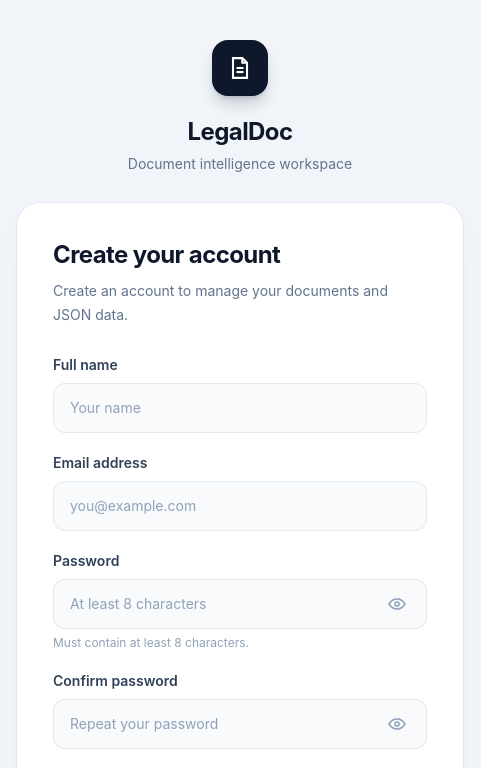
Test: RegisterForm › shows an error when registration fails
This screenshot has width=481, height=768.
In the field labelled "Full name": x=240, y=408 [53,383,427,433], type "Test User"
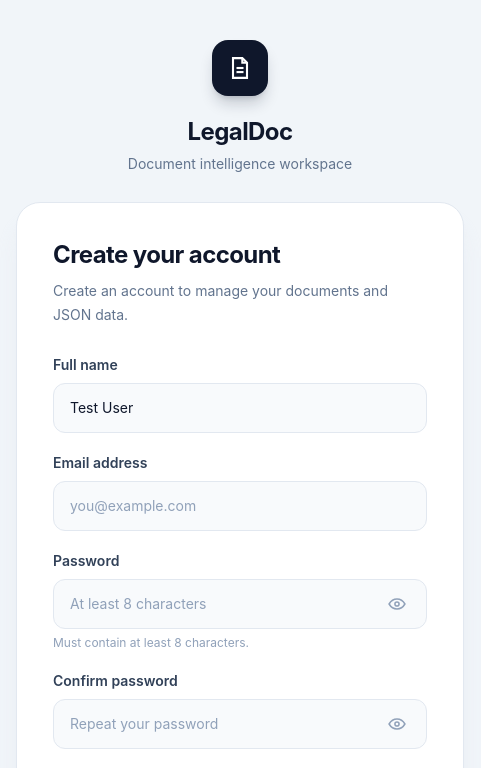
In the field labelled "Email address": x=240, y=506 [53,481,427,531], type "test@gmail.com"
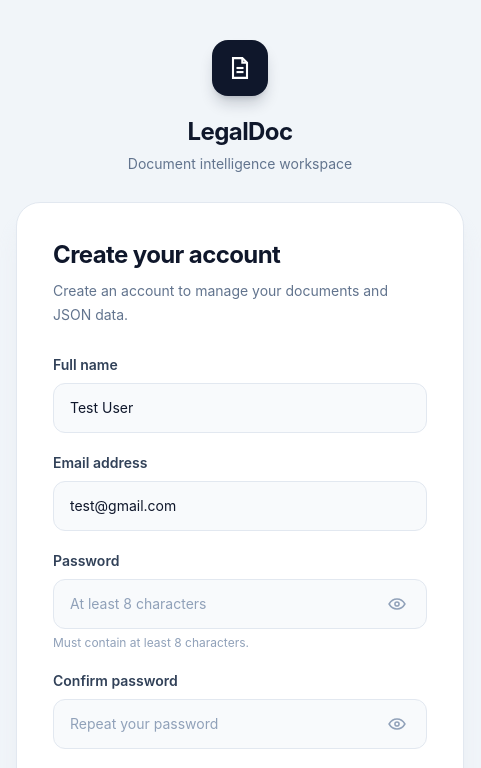
In the password field labelled "Password": x=240, y=604 [53,579,427,629], type "password123"
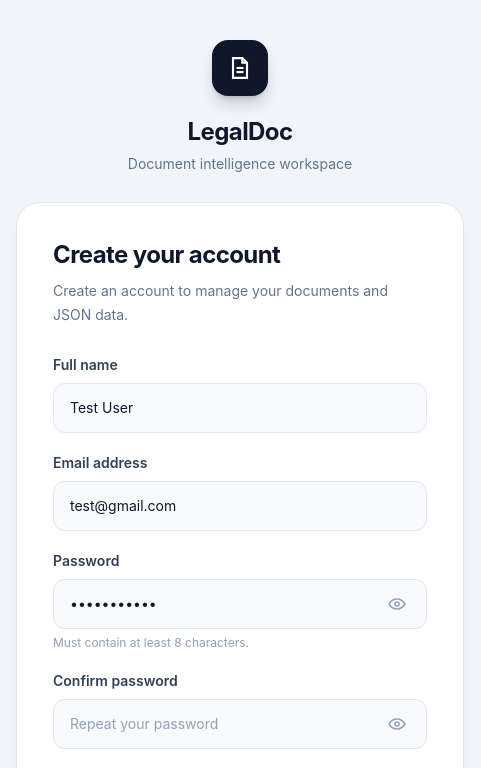
In the password field labelled "Confirm password": x=240, y=724 [53,699,427,749], type "password123"
(page scrolled)
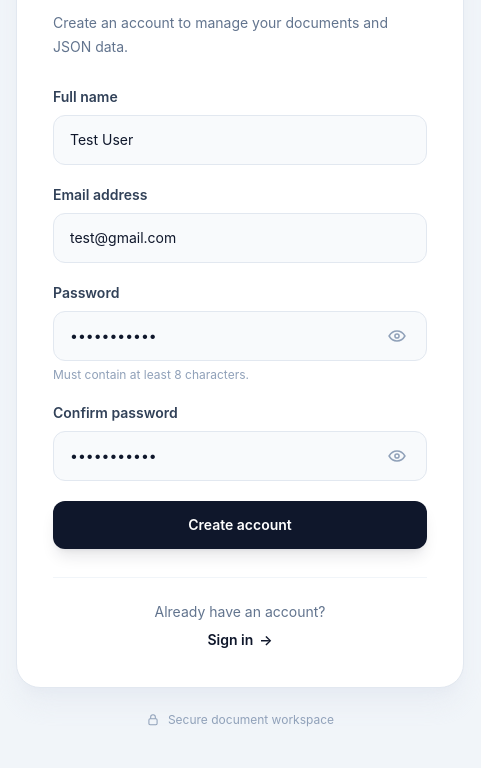
Click the button "Create account": x=240, y=525 [53,501,427,549]
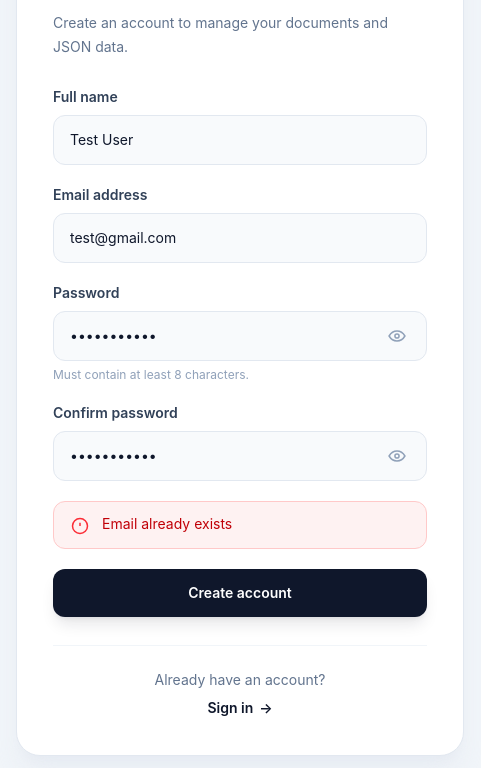
Now the message reads "Email already exists", box [102,515,232,532]
